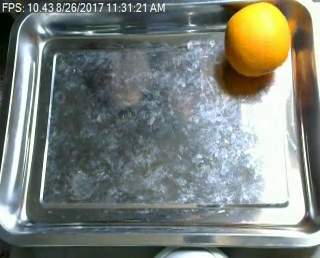Orange: (225, 1, 292, 76)
